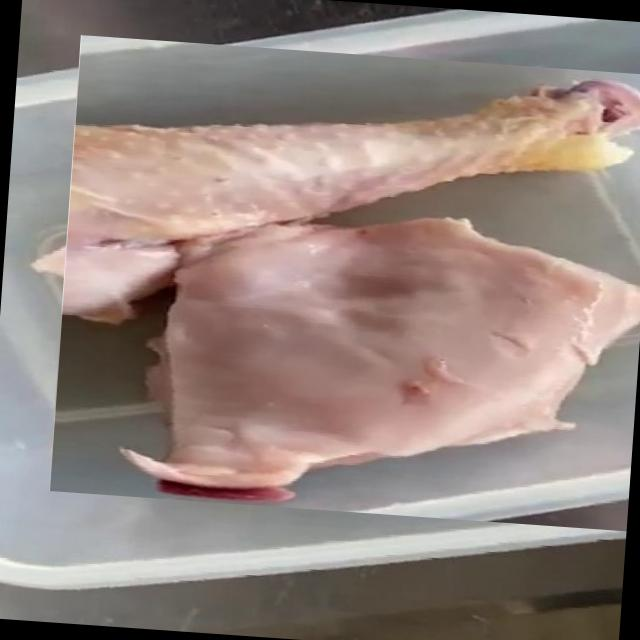chicken: (48, 34, 640, 531)
